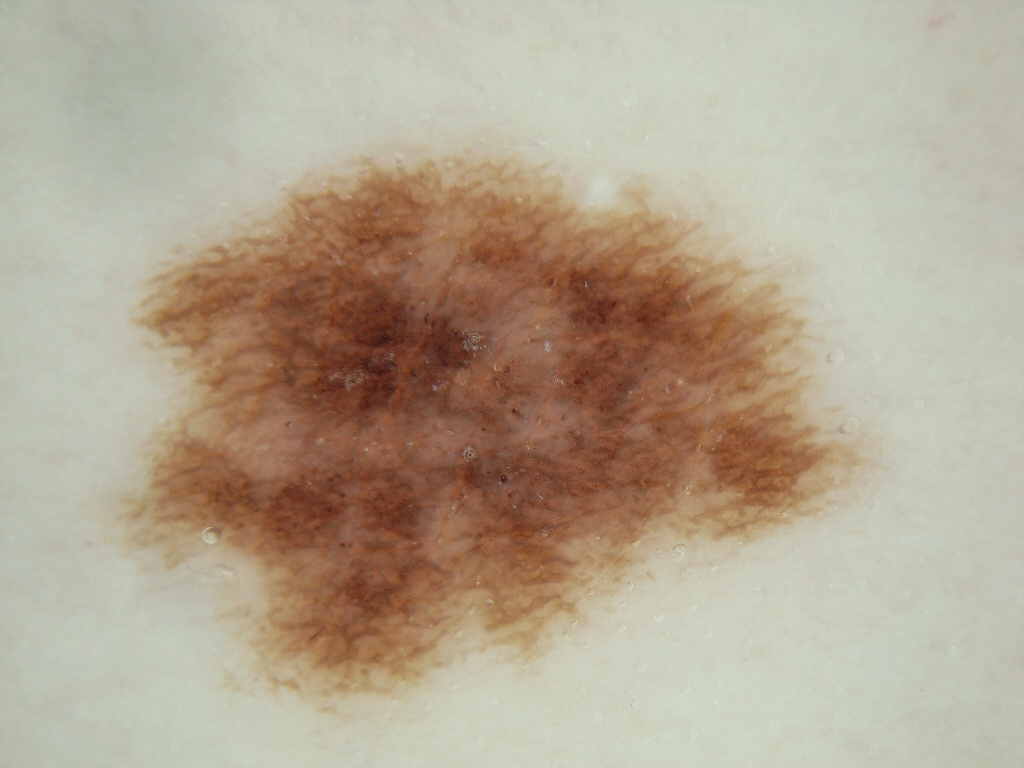Detected Lesion: (102, 139, 874, 716)
